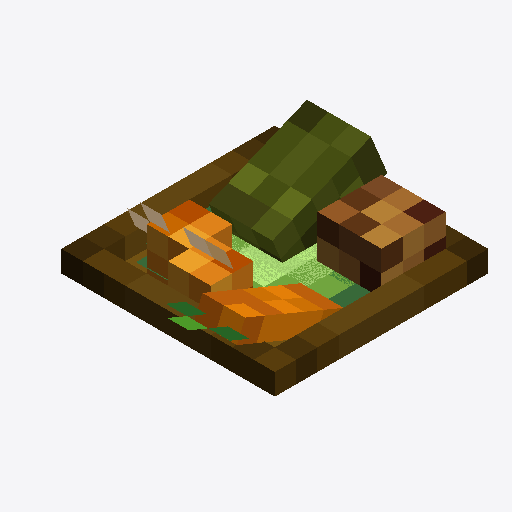
Isometric view (azimuth 45°, elevation 35.3°) of a Minecraft model made of 17 cuboids, textured from the same repository.
Parts seen in each view (by area): element 13, element 14, element 10, element 4, element 11, element 9, element 1, element 15, element 16, element 5, element 17, element 6 (+2 smaller).
Boxes of the visible parts, box(x1,y1,x2,y2) form: element 13: box(209, 100, 386, 262); element 14: box(317, 175, 445, 291); element 10: box(275, 249, 466, 383); element 4: box(83, 249, 274, 383); element 11: box(195, 283, 342, 344); element 9: box(83, 138, 264, 260); element 1: box(137, 206, 369, 307); element 15: box(147, 200, 231, 284); element 16: box(168, 237, 252, 302); element 5: box(253, 348, 295, 395); element 17: box(127, 202, 232, 268); element 6: box(61, 237, 103, 285).
Bounding box in the file's own units: 12.31 × 4.3 × 10.